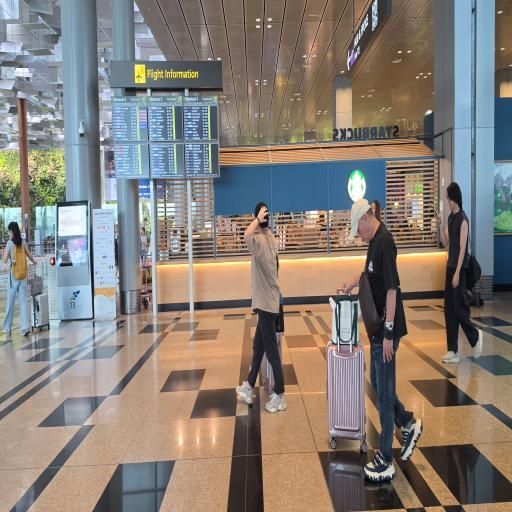person_left: (429, 180, 490, 366)
person_with_luggage_left: (326, 192, 418, 474), (240, 196, 296, 414), (2, 218, 51, 338)
